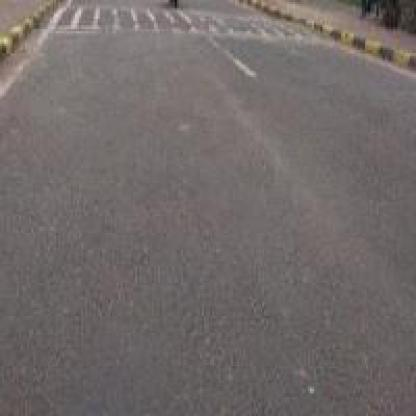Speed Bump: (41, 2, 324, 44)
